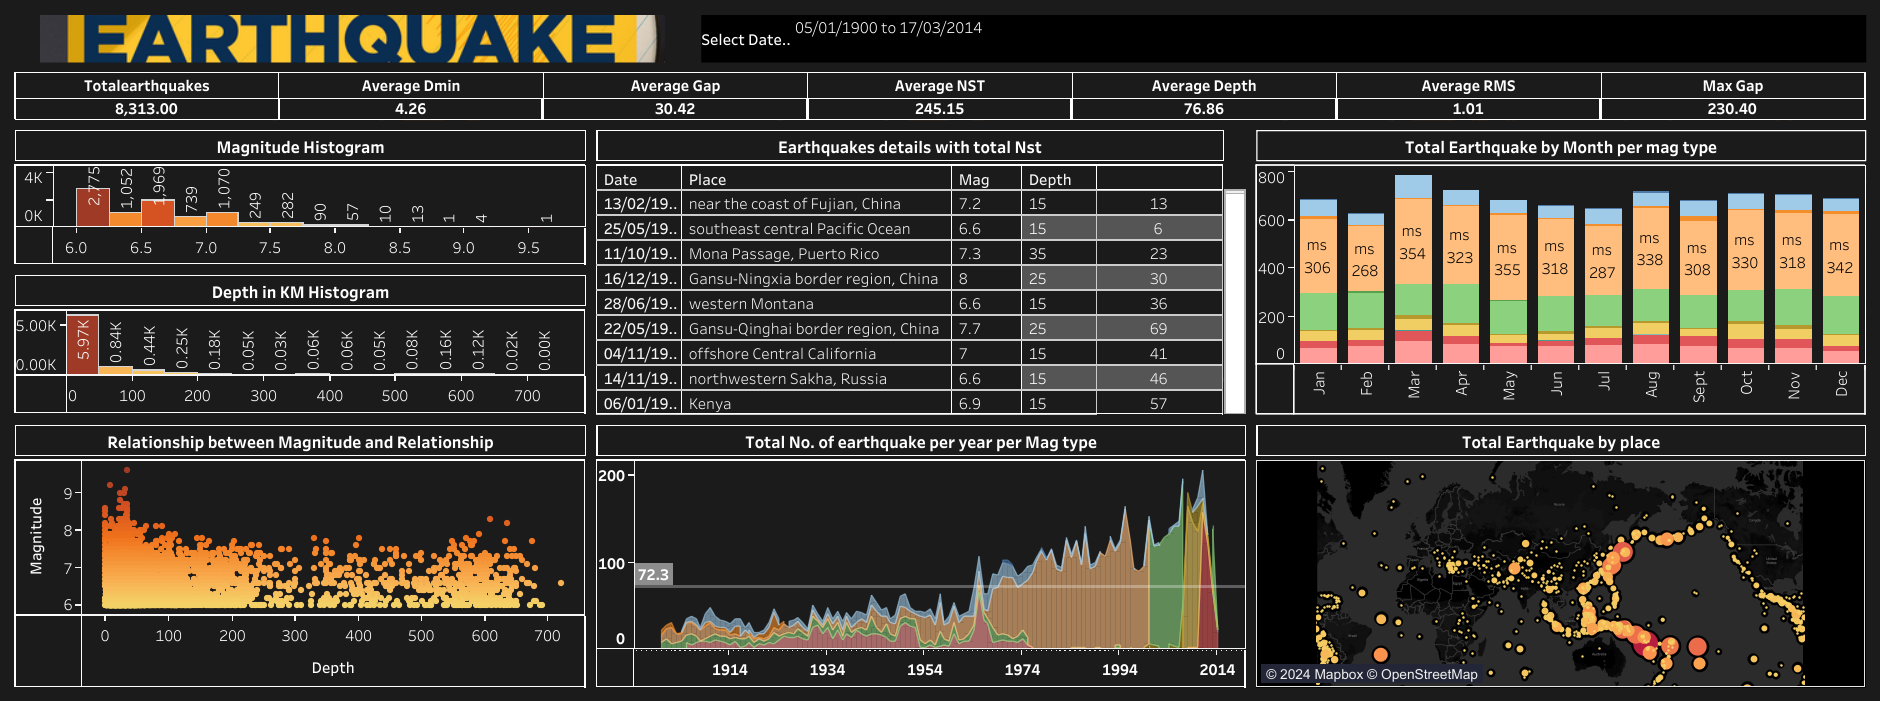

The page's visual inventory and layout, read from the dashboard file:
{"tool":"tableau","page":{"name":"Dashboard 1","canvas":[1000,1000],"units":"permille","ordinal":0},"visuals":[{"type":"image","param":"Image/earthquake_VKhBxvI.png","box":[5.8,11.1,364.2,82.7]},{"type":"filter","title":"Total Earthquake by Month per mag type","param":"[federated.046aou11s22vma1b595g105btk8l].[none:Date:qk]","box":[370,11.1,624.2,70.4]},{"type":"worksheet","title":"KPI","mark":"Automatic","box":[5.8,93.8,988.5,82.9]},{"type":"worksheet","title":"Magnitude Histogram","mark":"Automatic","rows":["mag"],"cols":["Mag (bin)"],"box":[5.8,176.6,308.8,207.2]},{"type":"worksheet","title":"Earthquakes details with total Nst","mark":"Automatic","rows":["Date","place","mag","depth"],"box":[314.6,176.6,350.1,422]},{"type":"worksheet","title":"Total Earthquake by Month per mag type","mark":"Bar","rows":["Calculation_700872718668402688"],"cols":["Date"],"box":[664.7,176.6,329.5,421.3]},{"type":"worksheet","title":"Depth in KM Histogram","mark":"Automatic","rows":["depth"],"cols":["Depth (bin)"],"box":[5.8,383.8,308.8,214.1]},{"type":"worksheet","title":"Relationship between Magnitude and Relationship","mark":"Automatic","rows":["mag"],"cols":["depth"],"box":[5.8,598,308.8,391]},{"type":"worksheet","title":"Total Earthquake by place ","mark":"Automatic","rows":["latitude"],"cols":["longitude"],"box":[664.7,598,329.5,391]},{"type":"worksheet","title":"Total No. of earthquake per year per Mag type","mark":"Area","rows":["id"],"cols":["Date"],"box":[314.6,598.6,350.1,390.3]}]}

Visuals, with their boxes on the dashboard's canvas, which has no fixed pixel size, in thousandths of its width and height (x1, y1, x2, y2). These are canvas units, not pixel positions in the 1880x701 screenshot, which may show the page scaled, cropped or inside an application window:
image: x1=6 y1=11 x2=370 y2=94
"Total Earthquake by Month per mag type" filter: x1=370 y1=11 x2=994 y2=82
"KPI" worksheet: x1=6 y1=94 x2=994 y2=177
"Magnitude Histogram" worksheet: x1=6 y1=177 x2=315 y2=384
"Earthquakes details with total Nst" worksheet: x1=315 y1=177 x2=665 y2=599
"Total Earthquake by Month per mag type" worksheet (Bar marks): x1=665 y1=177 x2=994 y2=598
"Depth in KM Histogram" worksheet: x1=6 y1=384 x2=315 y2=598
"Relationship between Magnitude and Relationship" worksheet: x1=6 y1=598 x2=315 y2=989
"Total Earthquake by place " worksheet: x1=665 y1=598 x2=994 y2=989
"Total No. of earthquake per year per Mag type" worksheet (Area marks): x1=315 y1=599 x2=665 y2=989
